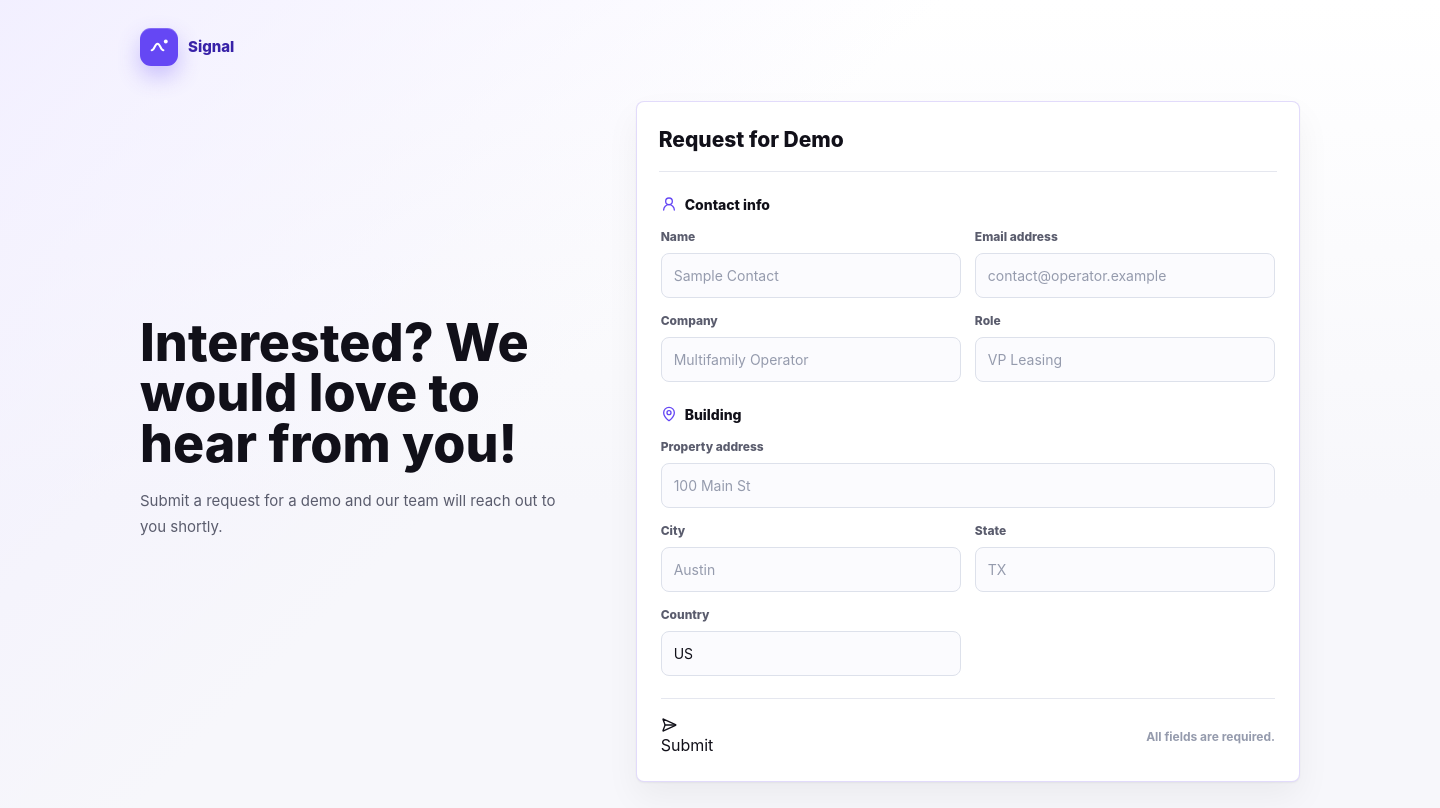
Scenario: LeadSubmissionForm › blocks empty submissions with inline field errors
Click the button "Submit": (687, 736) [661,716,713,756]
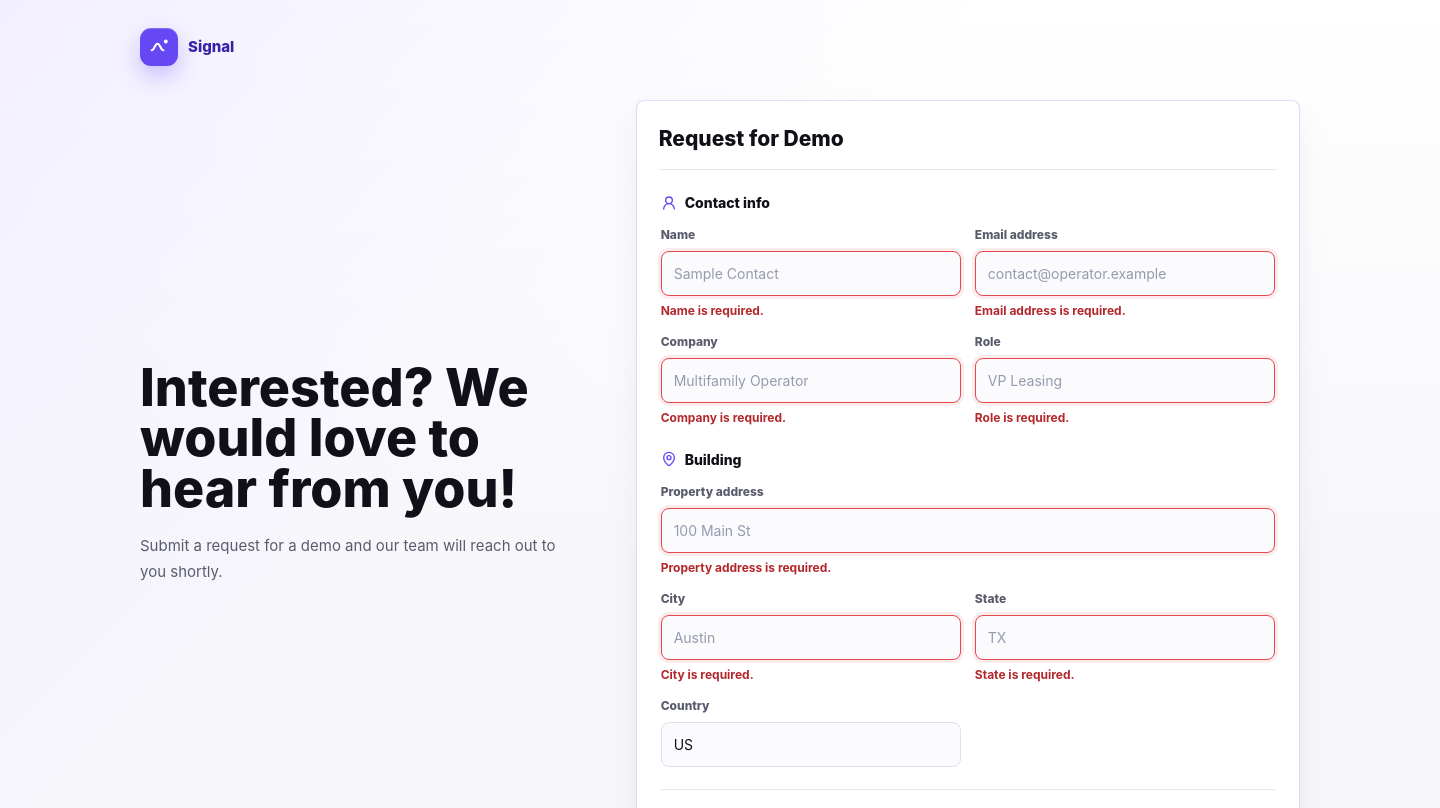
Check: the text "Name is required." is shown, box [661,303,764,318]
Check: the text "Email address is required." is shown, box [975,303,1126,318]
Check: the text "Company is required." is shown, box [661,410,786,425]
